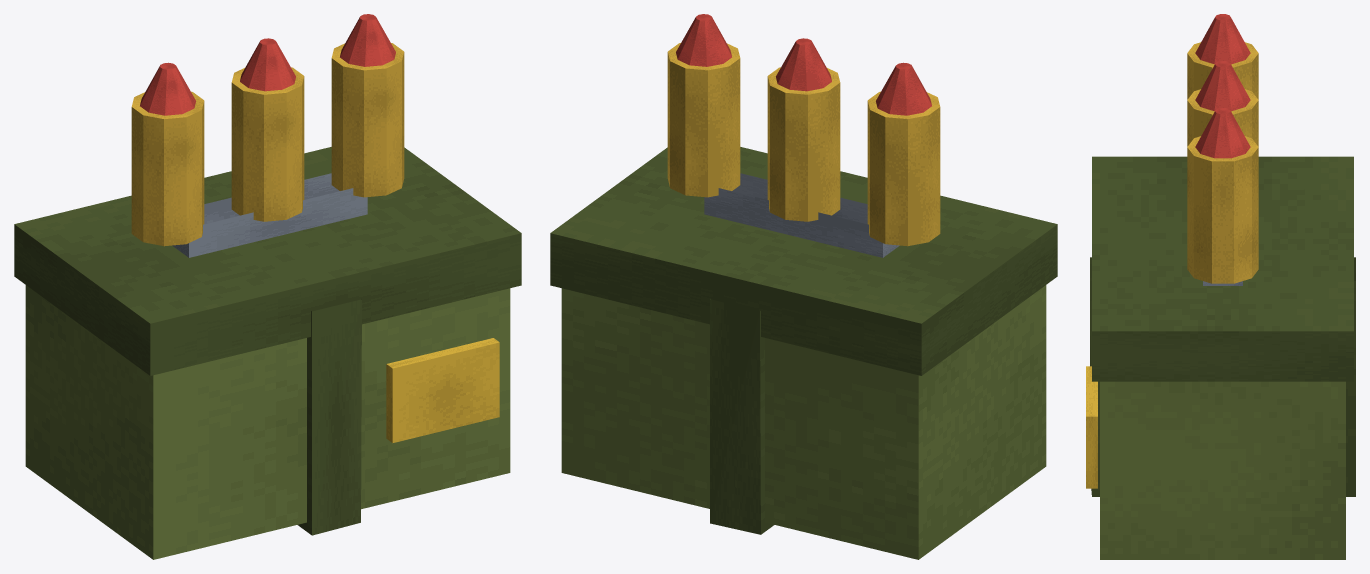
File: pickup_ammo.glb
3 renders of one model, left to right at view 1: azimuth 30°, elevation 25°; view 2: azimuth 150°, elevation 25°; view 3: azimuth 270°, elevation 25°, orthographic. The views are drawn at different scales.
Parts seen in each view (by area): view 1: pickup_ammo; view 2: pickup_ammo; view 3: pickup_ammo.
Boxes of the visible parts, left/top/right/bottom form: pickup_ammo: left=14, top=14, right=521, bottom=559; pickup_ammo: left=550, top=14, right=1057, bottom=559; pickup_ammo: left=1086, top=14, right=1355, bottom=559.
Size of the model in its own units: 1.04 by 1.17 by 0.68.
1 material, 1 textured.
